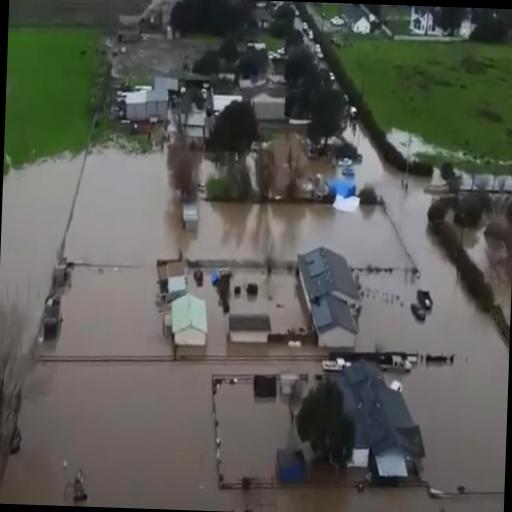flood: (0, 147, 504, 512), (345, 127, 509, 492), (0, 154, 82, 346), (215, 381, 301, 482), (230, 270, 310, 333), (464, 226, 512, 324), (387, 126, 453, 159)
house: (330, 356, 429, 485), (292, 243, 366, 354), (166, 290, 210, 360), (122, 78, 170, 128), (225, 312, 273, 346), (250, 82, 286, 122), (410, 5, 440, 38), (346, 7, 371, 41)
